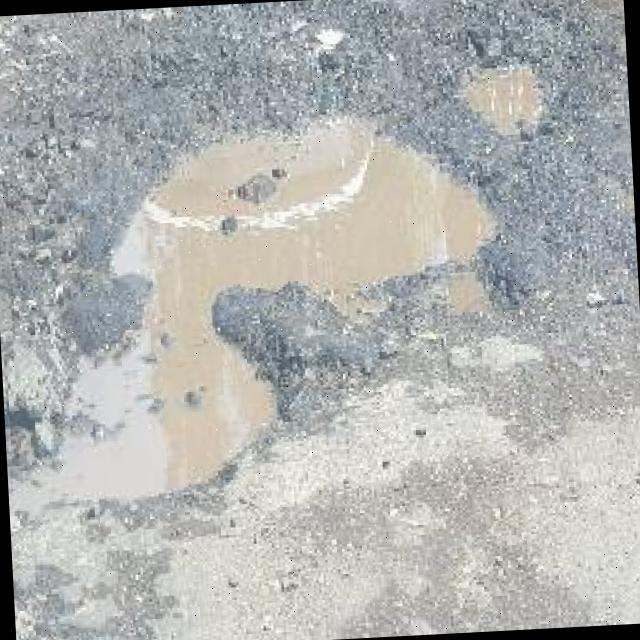waterlogging: (18, 80, 498, 520)
